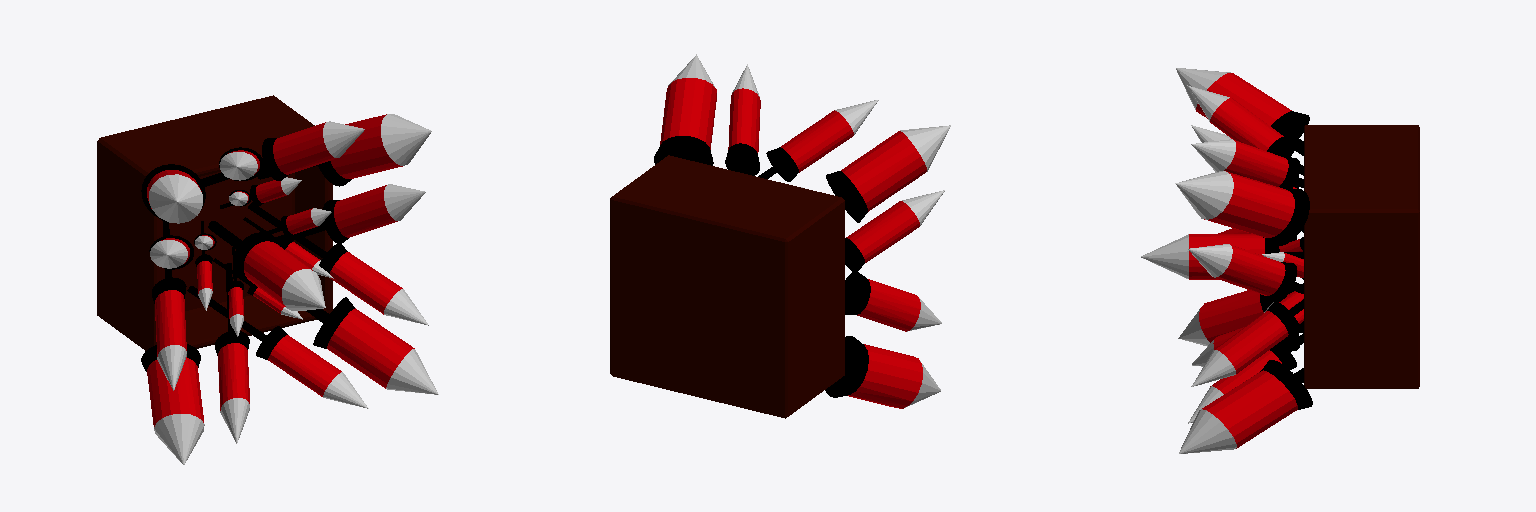
Rendered from fireworks.obj.
The picture shows the model from 3 angles: view 1: azimuth 30°, elevation 25°; view 2: azimuth 150°, elevation 25°; view 3: azimuth 270°, elevation 25°; orthographic projection.
Visible parts, largest first — view 1: Cone; view 2: Cone; view 3: Cone.
Part boxes in pixels (left/top/right/bottom): Cone: left=97, top=95, right=438, bottom=464; Cone: left=610, top=54, right=950, bottom=418; Cone: left=1141, top=68, right=1419, bottom=453.
Size of the model in its own units: 1.91 by 1.96 by 1.73.